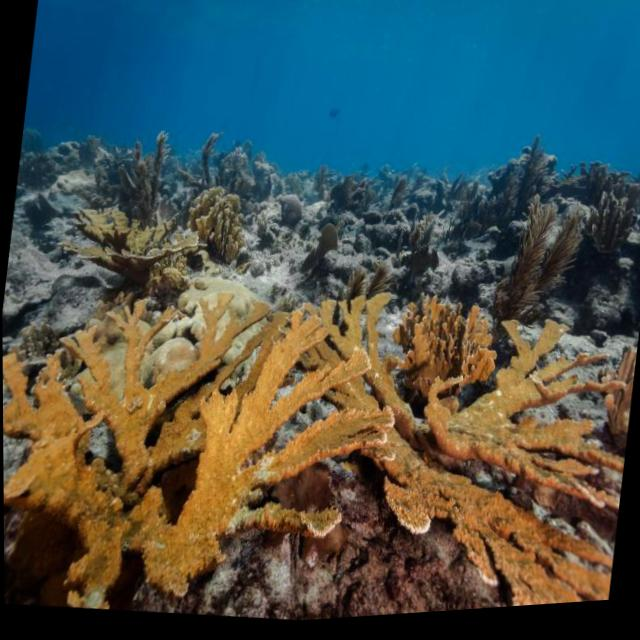Healthy Coral: (2, 247, 640, 640), (57, 183, 202, 303), (187, 182, 254, 270)
